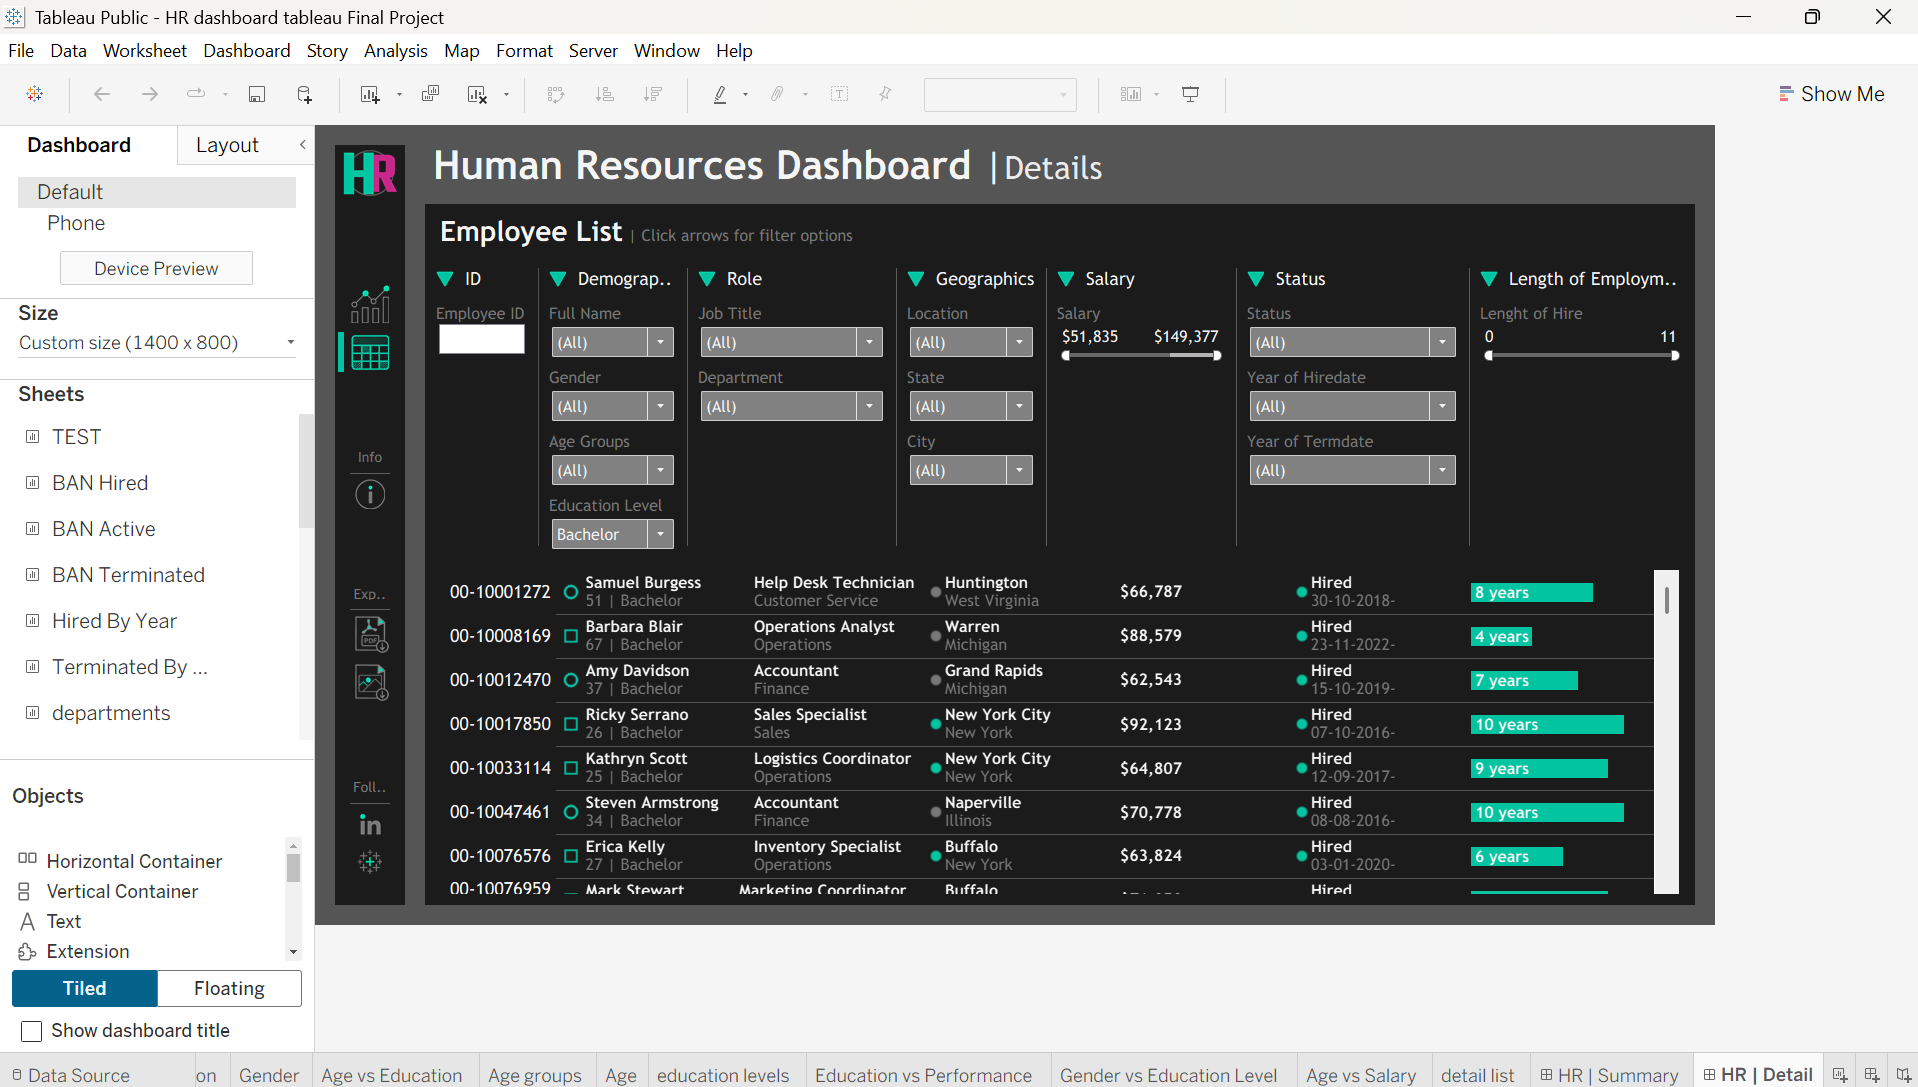

Layout of this report page (visuals, bound fields, positions):
{"tool":"tableau","page":{"name":"HR | Detail","canvas":[1400,800],"ordinal":0},"visuals":[{"type":"text","box":[110,0,683,79]},{"type":"blank","box":[793,0,587,79]},{"type":"image","param":"Image/Logo.png","box":[20,20,70,55]},{"type":"blank","box":[30,85,50,75]},{"type":"text","box":[117,86,1256,41]},{"type":"dashboard-object","box":[117,127,25,42]},{"type":"text","box":[142,127,75,42]},{"type":"blank","box":[217,127,13,266]},{"type":"dashboard-object","box":[230,127,25,42]},{"type":"text","box":[255,127,111,42]},{"type":"blank","box":[366,127,13,266]},{"type":"dashboard-object","box":[379,127,25,42]},{"type":"text","box":[404,127,89.5,42]},{"type":"blank","box":[493.5,127,81.5,42]},{"type":"blank","box":[575,127,13,266]},{"type":"dashboard-object","box":[588,127,25,42]},{"type":"text","box":[613,127,112,42]},{"type":"blank","box":[725,127,13,266]},{"type":"dashboard-object","box":[738,127,25,42]},{"type":"text","box":[763,127,152,42]},{"type":"blank","box":[915,127,13,266]},{"type":"dashboard-object","box":[928,127,25,42]},{"type":"text","box":[953,127,195,42]},{"type":"blank","box":[1148,127,13,266]},{"type":"dashboard-object","box":[1161,127,25,42]},{"type":"text","box":[1186,127,187,42]},{"type":"dashboard-object","box":[30,160,50,38]},{"type":"filter","title":"detail list","param":"[federated.0o7kpwv05for1l1egvr2008jq9fx].[none:Employee_ID:nk]","box":[117,169,100,53]},{"type":"filter","title":"detail list","param":"[federated.0o7kpwv05for1l1egvr2008jq9fx].[none:Calculation_2183401452986515458:n","box":[230,169,136,56]},{"type":"filter","title":"detail list","param":"[federated.0o7kpwv05for1l1egvr2008jq9fx].[none:Job Title:nk]","box":[379,169,196,56]},{"type":"filter","title":"detail list","param":"[federated.0o7kpwv05for1l1egvr2008jq9fx].[none:Calculation_626844828647133190:nk","box":[588,169,137,56]},{"type":"filter","title":"detail list","param":"[federated.0o7kpwv05for1l1egvr2008jq9fx].[sum:Salary:qk]","box":[738,169,177,68]},{"type":"filter","title":"detail list","param":"[federated.0o7kpwv05for1l1egvr2008jq9fx].[none:Calculation_2092203559808077824:n","box":[928,169,220,56]},{"type":"filter","title":"detail list","param":"[federated.0o7kpwv05for1l1egvr2008jq9fx].[sum:Calculation_2183401452991361027:qk","box":[1161,169,212,68]},{"type":"blank","box":[30,198,50,10]},{"type":"blank","box":[23,207,6,40]},{"type":"dashboard-object","box":[30,208,50,38]},{"type":"text","box":[90,215,1309,267]},{"type":"filter","title":"detail list","param":"[federated.0o7kpwv05for1l1egvr2008jq9fx].[none:Gender:nk]","box":[230,225,136,56]},{"type":"filter","title":"detail list","param":"[federated.0o7kpwv05for1l1egvr2008jq9fx].[none:Department:nk]","box":[379,225,196,56]},{"type":"filter","title":"detail list","param":"[federated.0o7kpwv05for1l1egvr2008jq9fx].[none:State:nk]","box":[588,225,137,56]},{"type":"filter","title":"detail list","param":"[federated.0o7kpwv05for1l1egvr2008jq9fx].[yr:Hiredate:ok]","box":[928,225,220,56]},{"type":"blank","box":[30,246,50,75]},{"type":"filter","title":"detail list","param":"[federated.0o7kpwv05for1l1egvr2008jq9fx].[none:Calculation_814307163830112257:nk","box":[230,281,136,56]},{"type":"filter","title":"detail list","param":"[federated.0o7kpwv05for1l1egvr2008jq9fx].[none:City:nk]","box":[588,281,137,56]},{"type":"filter","title":"detail list","param":"[federated.0o7kpwv05for1l1egvr2008jq9fx].[yr:Termdate:ok]","box":[928,281,220,56]},{"type":"text","box":[30,321,50,22]},{"type":"filter","title":"detail list","param":"[federated.0o7kpwv05for1l1egvr2008jq9fx].[none:Education Level:nk]","box":[230,337,136,56]},{"type":"blank","box":[30,343,50,11]},{"type":"dashboard-object","box":[30,354,50,30]},{"type":"blank","box":[30,384,50,75]},{"type":"worksheet","title":"detail list","mark":"Shape","rows":["Employee_ID"],"cols":["Calculation_2183401452986068993","Calculation_2183401452986068993","Calculation_2183401452986068993","Calculation_2183401452986068993","Calculation_2183401452986068993","Calculation_2183401452991361027"],"box":[117,403,1256,370]},{"type":"text","box":[30,459,50,20]},{"type":"blank","box":[30,479,50,11]},{"type":"dashboard-object","box":[30,490,50,38]},{"type":"blank","box":[30,528,50,10]},{"type":"dashboard-object","box":[30,538,50,38]},{"type":"blank","box":[30,576,50,75]},{"type":"text","box":[30,651,50,22]},{"type":"blank","box":[30,673,50,11]},{"type":"image","param":"Image/contact-linkedin.png","box":[30,684,50,30]},{"type":"blank","box":[30,714,50,10]},{"type":"image","param":"Image/contact-public.png","box":[30,724,50,25]}]}

Visuals, with their boxes on the page's 1400x800 design canvas (x1, y1, x2, y2). These are canvas units, not pixel positions in the 1918x1087 screenshot, which may show the page scaled, cropped or inside an application window:
text: <bbox>110, 0, 793, 79</bbox>
blank: <bbox>793, 0, 1380, 79</bbox>
image: <bbox>20, 20, 90, 75</bbox>
blank: <bbox>30, 85, 80, 160</bbox>
text: <bbox>117, 86, 1373, 127</bbox>
dashboard-object: <bbox>117, 127, 142, 169</bbox>
text: <bbox>142, 127, 217, 169</bbox>
blank: <bbox>217, 127, 230, 393</bbox>
dashboard-object: <bbox>230, 127, 255, 169</bbox>
text: <bbox>255, 127, 366, 169</bbox>
blank: <bbox>366, 127, 379, 393</bbox>
dashboard-object: <bbox>379, 127, 404, 169</bbox>
text: <bbox>404, 127, 494, 169</bbox>
blank: <bbox>494, 127, 575, 169</bbox>
blank: <bbox>575, 127, 588, 393</bbox>
dashboard-object: <bbox>588, 127, 613, 169</bbox>
text: <bbox>613, 127, 725, 169</bbox>
blank: <bbox>725, 127, 738, 393</bbox>
dashboard-object: <bbox>738, 127, 763, 169</bbox>
text: <bbox>763, 127, 915, 169</bbox>
blank: <bbox>915, 127, 928, 393</bbox>
dashboard-object: <bbox>928, 127, 953, 169</bbox>
text: <bbox>953, 127, 1148, 169</bbox>
blank: <bbox>1148, 127, 1161, 393</bbox>
dashboard-object: <bbox>1161, 127, 1186, 169</bbox>
text: <bbox>1186, 127, 1373, 169</bbox>
dashboard-object: <bbox>30, 160, 80, 198</bbox>
"detail list" filter: <bbox>117, 169, 217, 222</bbox>
"detail list" filter: <bbox>230, 169, 366, 225</bbox>
"detail list" filter: <bbox>379, 169, 575, 225</bbox>
"detail list" filter: <bbox>588, 169, 725, 225</bbox>
"detail list" filter: <bbox>738, 169, 915, 237</bbox>
"detail list" filter: <bbox>928, 169, 1148, 225</bbox>
"detail list" filter: <bbox>1161, 169, 1373, 237</bbox>
blank: <bbox>30, 198, 80, 208</bbox>
blank: <bbox>23, 207, 29, 247</bbox>
dashboard-object: <bbox>30, 208, 80, 246</bbox>
text: <bbox>90, 215, 1399, 482</bbox>
"detail list" filter: <bbox>230, 225, 366, 281</bbox>
"detail list" filter: <bbox>379, 225, 575, 281</bbox>
"detail list" filter: <bbox>588, 225, 725, 281</bbox>
"detail list" filter: <bbox>928, 225, 1148, 281</bbox>
blank: <bbox>30, 246, 80, 321</bbox>
"detail list" filter: <bbox>230, 281, 366, 337</bbox>
"detail list" filter: <bbox>588, 281, 725, 337</bbox>
"detail list" filter: <bbox>928, 281, 1148, 337</bbox>
text: <bbox>30, 321, 80, 343</bbox>
"detail list" filter: <bbox>230, 337, 366, 393</bbox>
blank: <bbox>30, 343, 80, 354</bbox>
dashboard-object: <bbox>30, 354, 80, 384</bbox>
blank: <bbox>30, 384, 80, 459</bbox>
"detail list" worksheet (Shape marks): <bbox>117, 403, 1373, 773</bbox>
text: <bbox>30, 459, 80, 479</bbox>
blank: <bbox>30, 479, 80, 490</bbox>
dashboard-object: <bbox>30, 490, 80, 528</bbox>
blank: <bbox>30, 528, 80, 538</bbox>
dashboard-object: <bbox>30, 538, 80, 576</bbox>
blank: <bbox>30, 576, 80, 651</bbox>
text: <bbox>30, 651, 80, 673</bbox>
blank: <bbox>30, 673, 80, 684</bbox>
image: <bbox>30, 684, 80, 714</bbox>
blank: <bbox>30, 714, 80, 724</bbox>
image: <bbox>30, 724, 80, 749</bbox>
